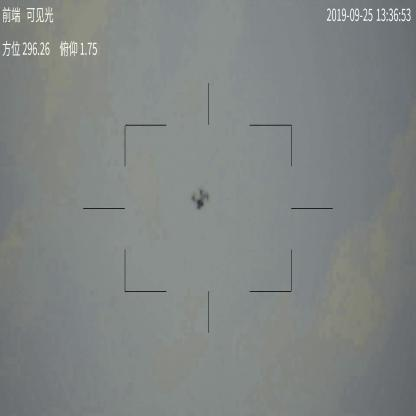uav: (192, 184, 213, 212)
